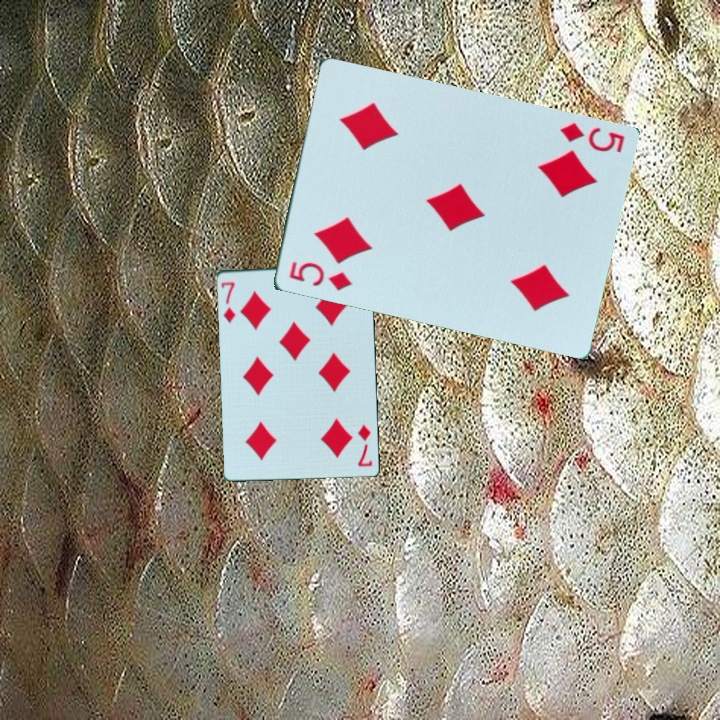5d: (555, 119, 627, 156), (285, 258, 355, 294)
7d: (217, 278, 238, 326), (354, 421, 375, 469)
